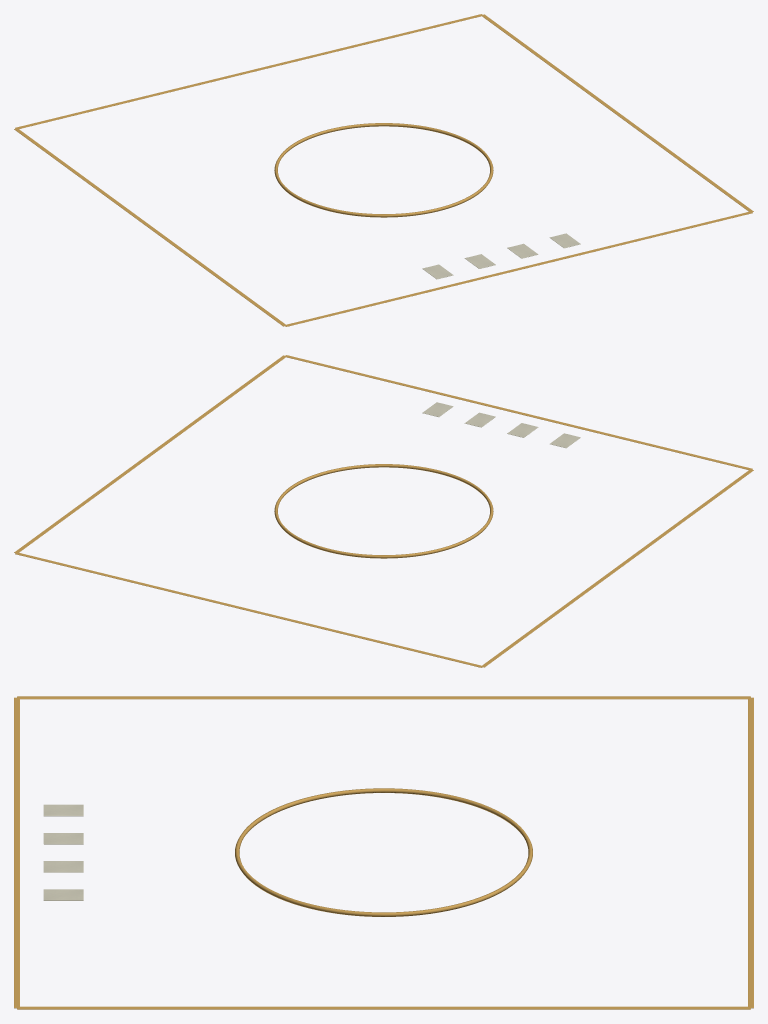
The model's file is Test_Markings.glb.
The picture shows the model from 3 angles, top to bottom: view 1: azimuth 30°, elevation 25°; view 2: azimuth 150°, elevation 25°; view 3: azimuth 270°, elevation 25°; orthographic projection. The views are drawn at different scales.
Parts seen in each view (by area): view 1: Test_Markings; view 2: Test_Markings; view 3: Test_Markings.
Boxes of the visible parts, <box> form: Test_Markings: <box>14,14,753,326</box>; Test_Markings: <box>14,355,753,667</box>; Test_Markings: <box>14,696,753,1009</box>.
Bounding box in the file's own units: 11.09 × 0.0606 × 11.09.
2 materials, 1 textured.
